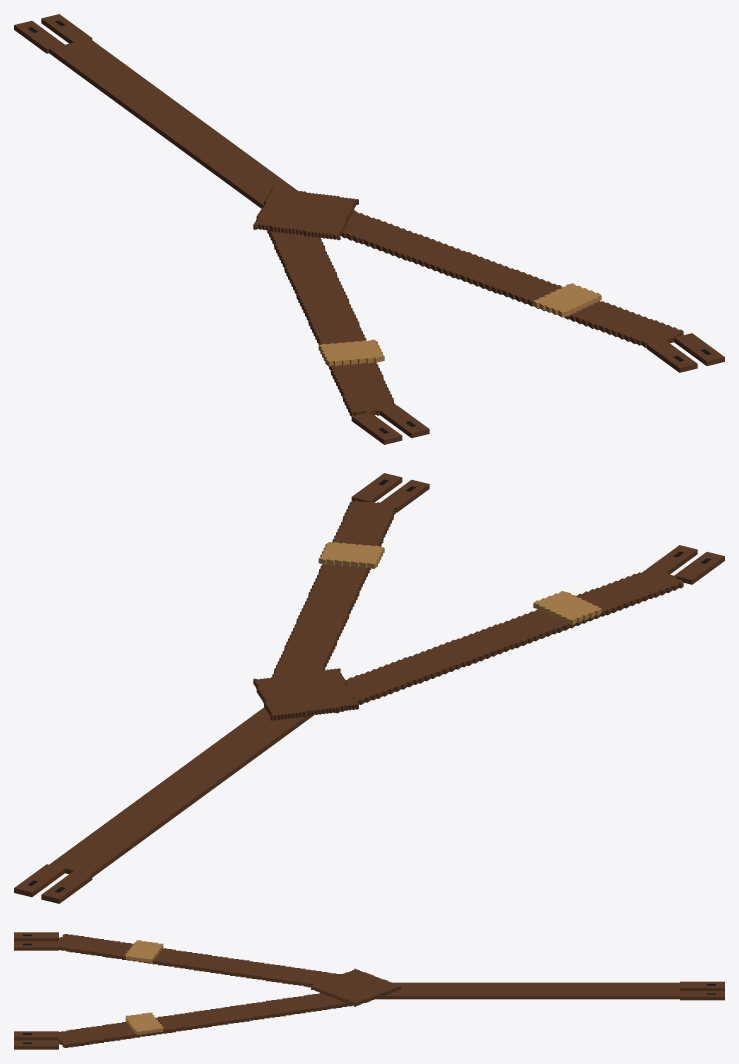
File: suspenders_leather.glb
The picture shows the model from 3 angles, top to bottom: view 1: azimuth 30°, elevation 25°; view 2: azimuth 150°, elevation 25°; view 3: azimuth 270°, elevation 25°; orthographic projection. The views are drawn at different scales.
Visible parts, largest first — view 1: suspenders_leather:compound; view 2: suspenders_leather:compound; view 3: suspenders_leather:compound.
Part boxes in pixels (x1=…): suspenders_leather:compound: x1=14, y1=14, x2=724, y2=444; suspenders_leather:compound: x1=14, y1=473, x2=724, y2=903; suspenders_leather:compound: x1=14, y1=932, x2=724, y2=1049.
Bounding box in the file's own units: 0.3 × 0.008 × 0.79.
